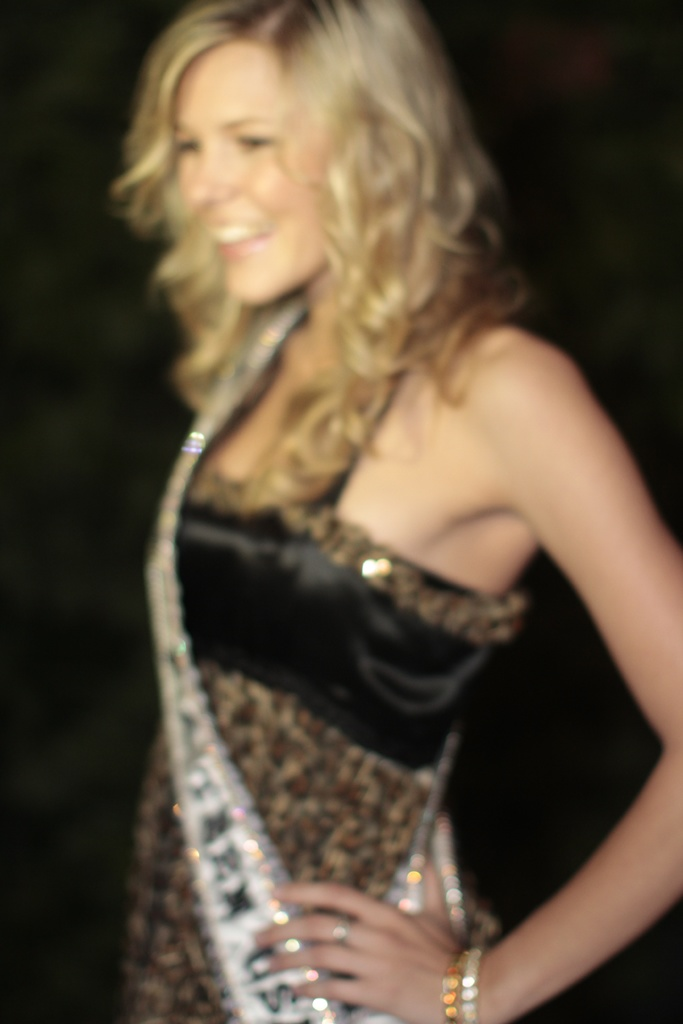Human_hand: (256, 885, 484, 1000)
